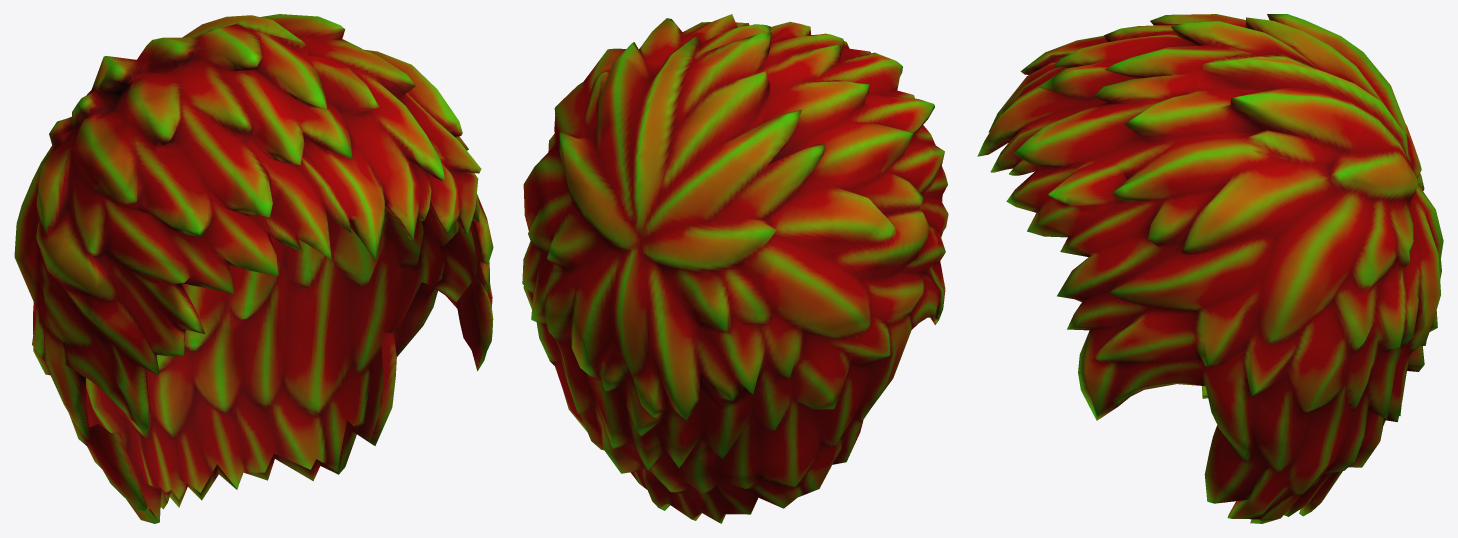
The model's file is Hairback_Scrappy.obj.
3 renders of one model, left to right at view 1: azimuth 30°, elevation 25°; view 2: azimuth 150°, elevation 25°; view 3: azimuth 270°, elevation 25°, orthographic. The views are drawn at different scales.
Parts seen in each view (by area): view 1: Hairback_Scrappy_0; view 2: Hairback_Scrappy_0; view 3: Hairback_Scrappy_0.
Part boxes in pixels (x1,y1,x2,y2): Hairback_Scrappy_0: (14,14,493,523); Hairback_Scrappy_0: (522,14,948,523); Hairback_Scrappy_0: (977,14,1443,523).
Size of the model in its own units: 0.1998 by 0.2371 by 0.2105.
1 material, 1 textured.
